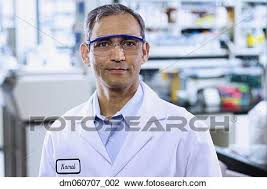Indian_Male: (88, 11, 148, 91)
